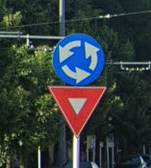cedeaza: (41, 82, 109, 139)
